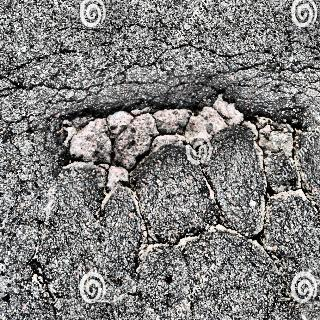alligator-crack: (5, 12, 320, 320)
